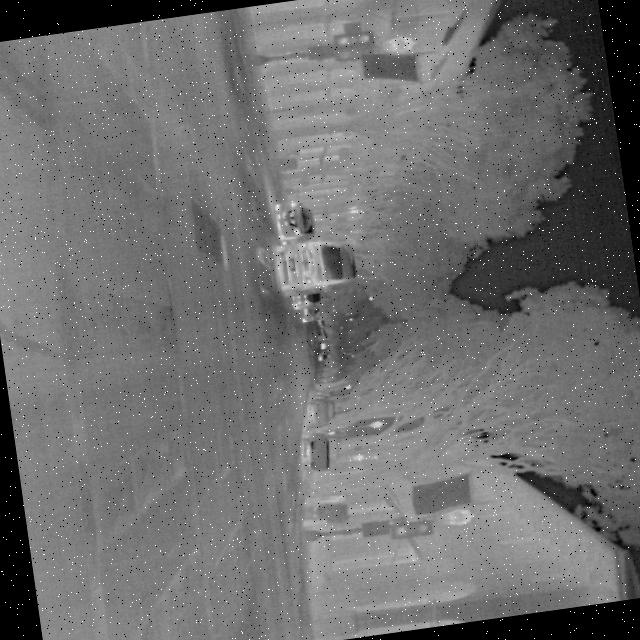Vehicle: (273, 234, 361, 296), (272, 196, 319, 244)
